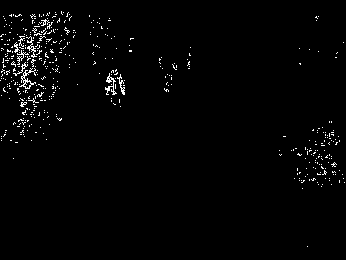person: (98, 66, 129, 112)
